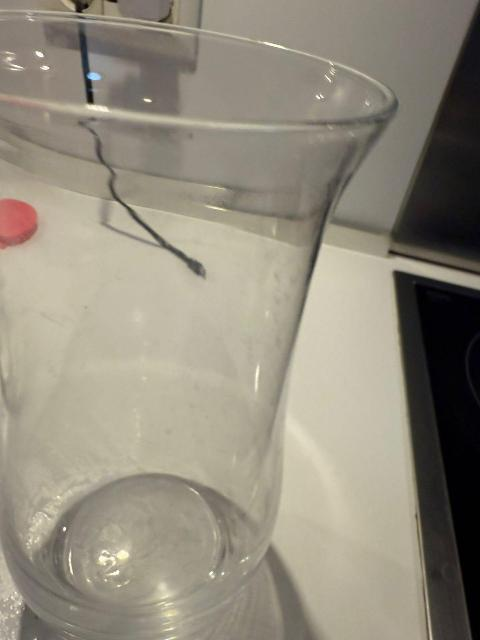Cam: (0, 2, 398, 626)
